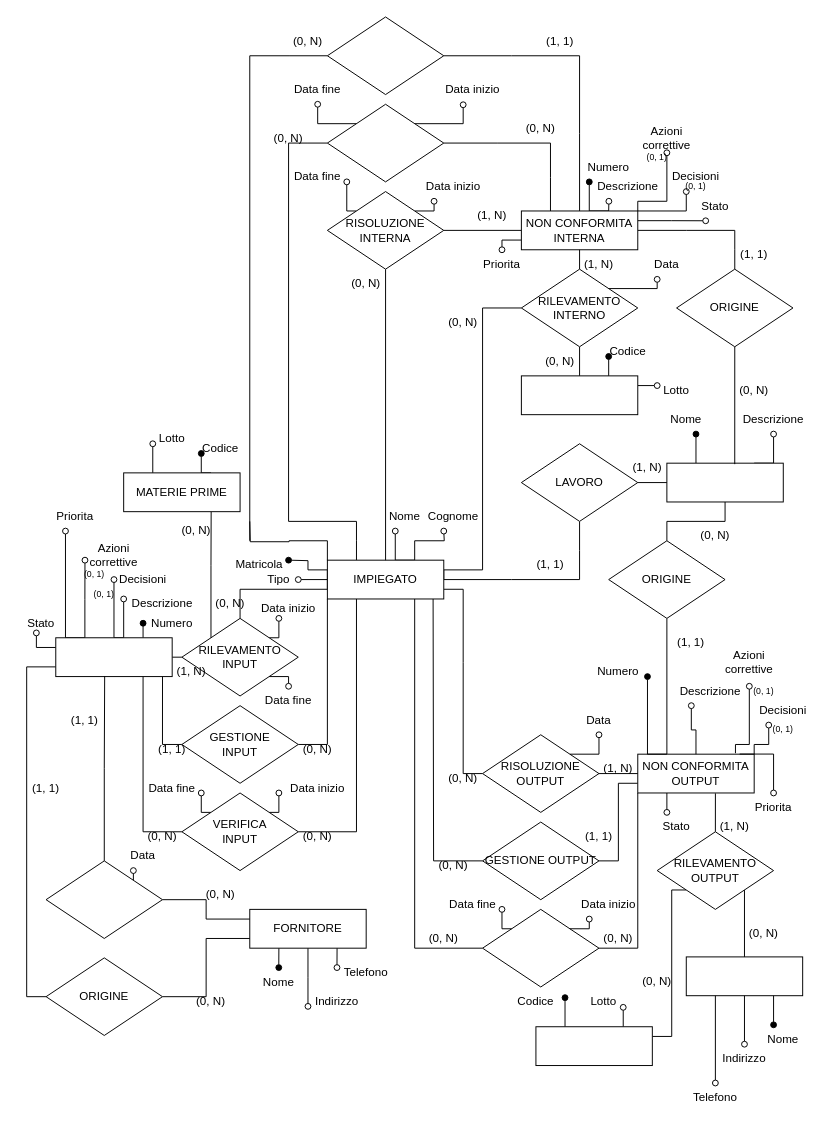
This 828x1129 diagram has some shape labels left out. The shapes that lost their labels are listed below. From the top down, each one's centre as x and y in pixels, then its label:
the point at 385,55: GESTIONE INTERNA
the point at 385,142: VERIFICA INTERNA
the point at 579,395: SEMILAVORATO
the point at 724,482: PROCESSI
the point at 113,657: NON CONFORMITA INPUT
the point at 103,899: RISOLUZIONE INPUT
the point at 540,947: VERIFICA OUTPUT
the point at 744,976: CLIENTE
the point at 593,1046: PRODOTTO
